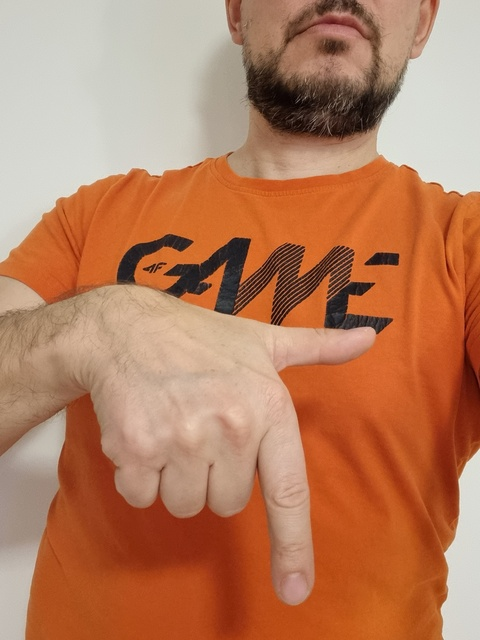GestDown: (114, 316, 375, 604)
